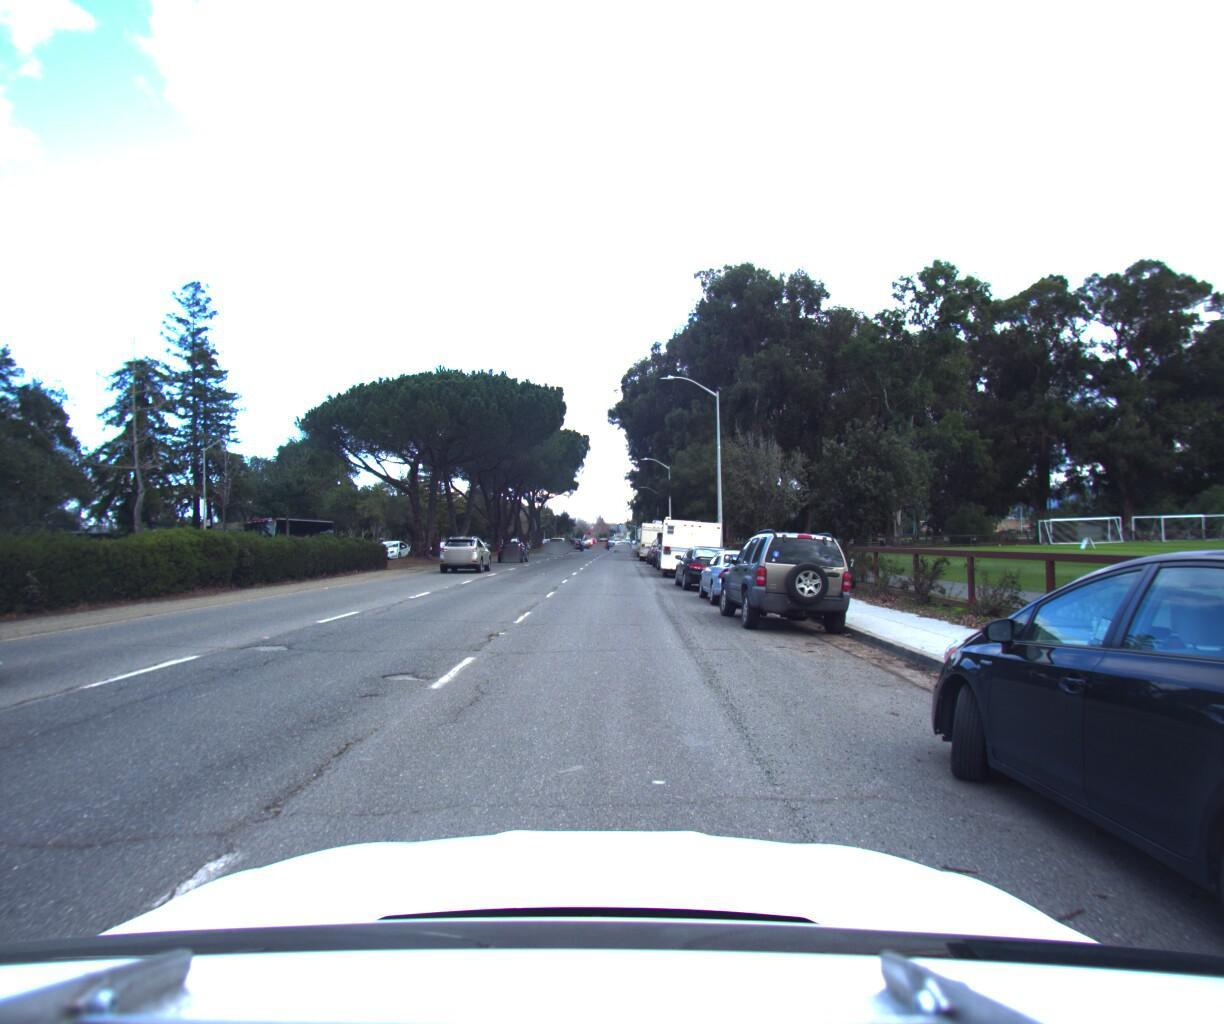bus: (231, 507, 342, 560)
car: (892, 538, 1224, 1024), (711, 519, 854, 636), (0, 537, 23, 817), (691, 540, 781, 606), (668, 536, 739, 588), (440, 528, 494, 567), (642, 524, 676, 558), (495, 533, 529, 558), (546, 531, 568, 547)
other_vehicle: (656, 507, 725, 574), (636, 508, 674, 554), (633, 515, 666, 550)
